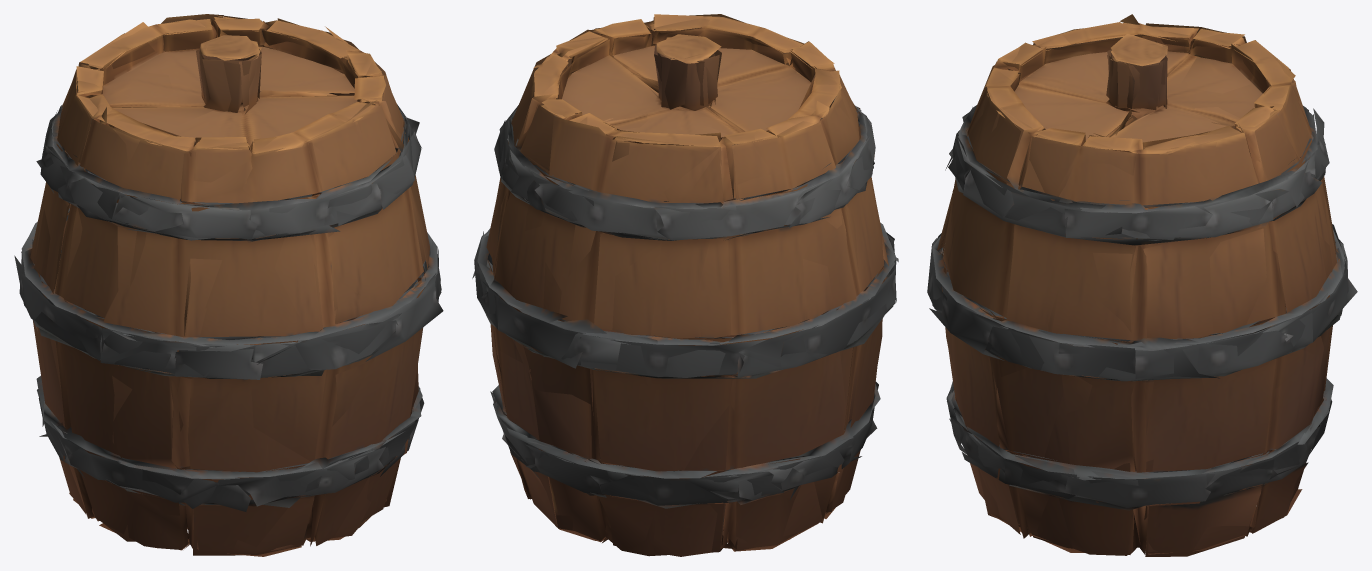
The model's file is prop_barrel.glb.
The picture shows the model from 3 angles, left to right: view 1: azimuth 30°, elevation 25°; view 2: azimuth 150°, elevation 25°; view 3: azimuth 270°, elevation 25°; orthographic projection.
Parts seen in each view (by area): view 1: Mesh_0; view 2: Mesh_0; view 3: Mesh_0.
Boxes of the visible parts, box(x1,y1,x2,y2) form: Mesh_0: box(14, 14, 443, 556); Mesh_0: box(472, 14, 898, 556); Mesh_0: box(927, 14, 1357, 556).
Bounding box in the file's own units: 1.05 × 1.21 × 1.06.
Materials: 1 (1 with a texture image).
